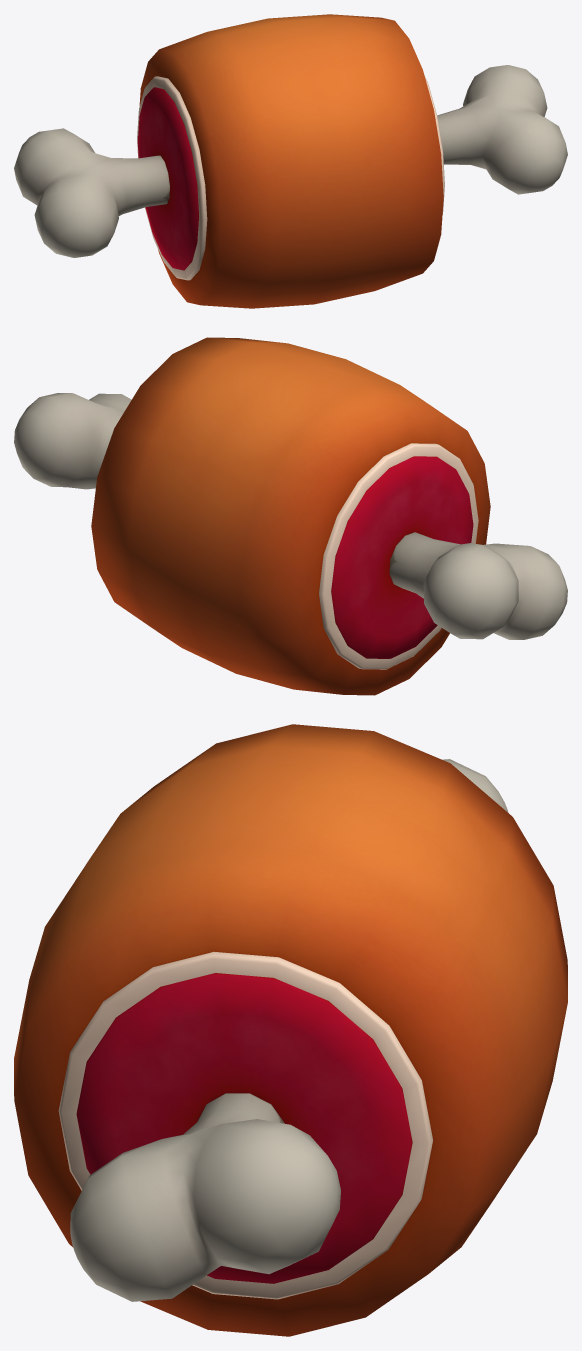
File: ham.glb
The picture shows the model from 3 angles, top to bottom: view 1: azimuth 30°, elevation 25°; view 2: azimuth 150°, elevation 25°; view 3: azimuth 270°, elevation 25°; orthographic projection. The views are drawn at different scales.
Parts seen in each view (by area): view 1: Meat; view 2: Meat; view 3: Meat.
Part boxes in pixels (x1=…): Meat: x1=14, y1=14, x2=567, y2=308; Meat: x1=14, y1=337, x2=567, y2=695; Meat: x1=14, y1=724, x2=567, y2=1336.
Bounding box in the file's own units: 4.29 × 2.18 × 2.3.
Materials: 1 (1 with a texture image).
